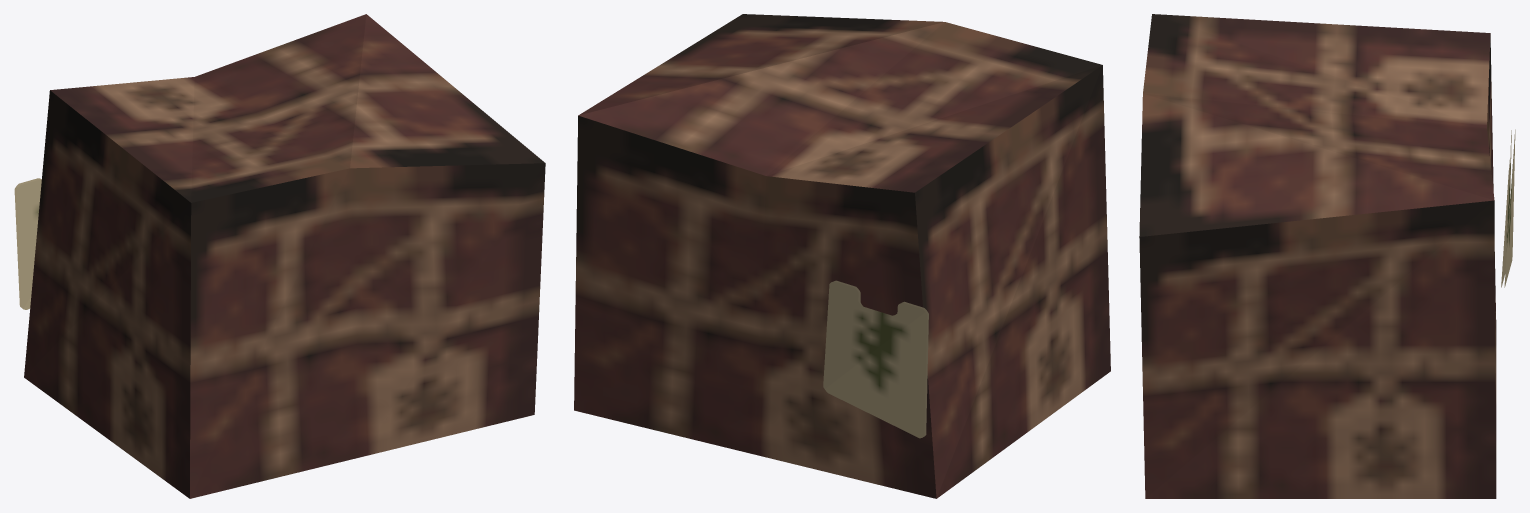
Rendered from SM_RedParcel.fbx.
3 views of the same model, side by side, from view 1: azimuth 30°, elevation 25°; view 2: azimuth 150°, elevation 25°; view 3: azimuth 270°, elevation 25° (orthographic). The views are drawn at different scales.
Visible parts, largest first — view 1: RedParcel_Visual, RedParcel_Tag; view 2: RedParcel_Visual, RedParcel_Tag; view 3: RedParcel_Visual, RedParcel_Tag.
Part boxes in pixels (bbox=[...]): RedParcel_Visual: bbox=[24, 14, 545, 498]; RedParcel_Tag: bbox=[14, 178, 41, 309]; RedParcel_Visual: bbox=[574, 14, 1110, 498]; RedParcel_Tag: bbox=[823, 280, 928, 438]; RedParcel_Visual: bbox=[1139, 14, 1496, 498]; RedParcel_Tag: bbox=[1501, 129, 1515, 287].
Bounding box in the file's own units: 0.1845 × 0.146 × 0.1608.
